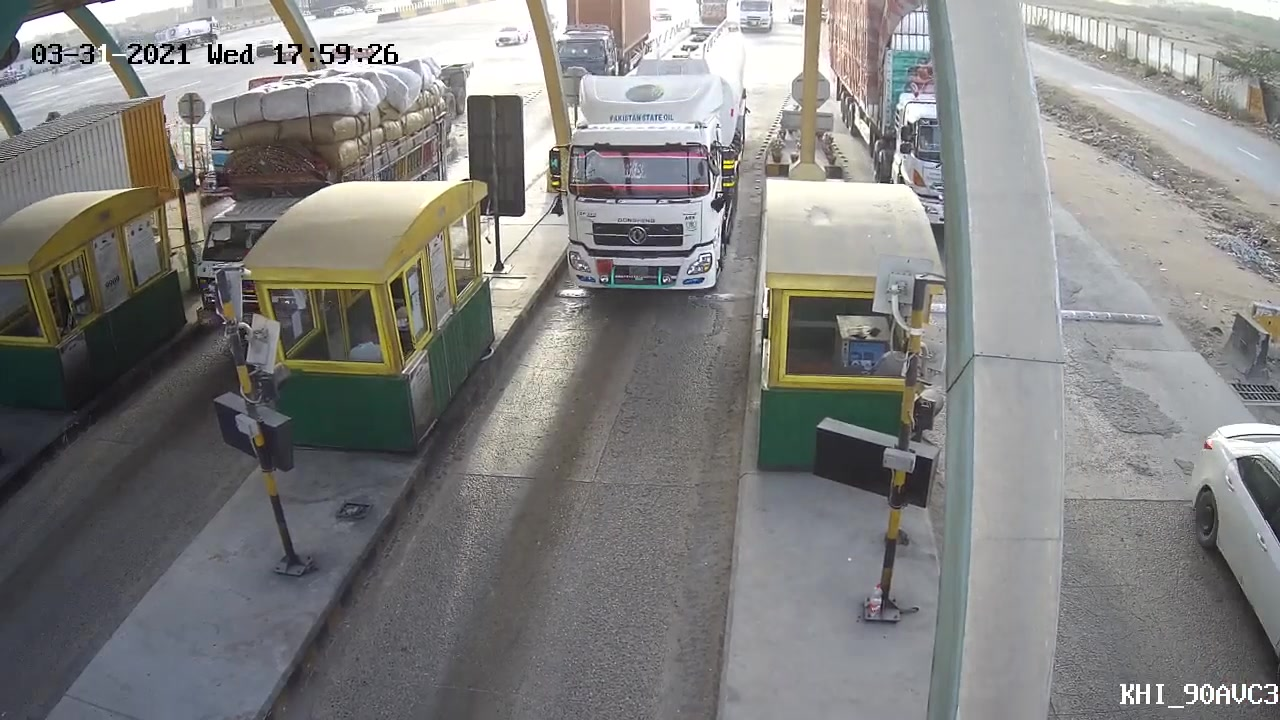F6: (537, 23, 754, 302)
